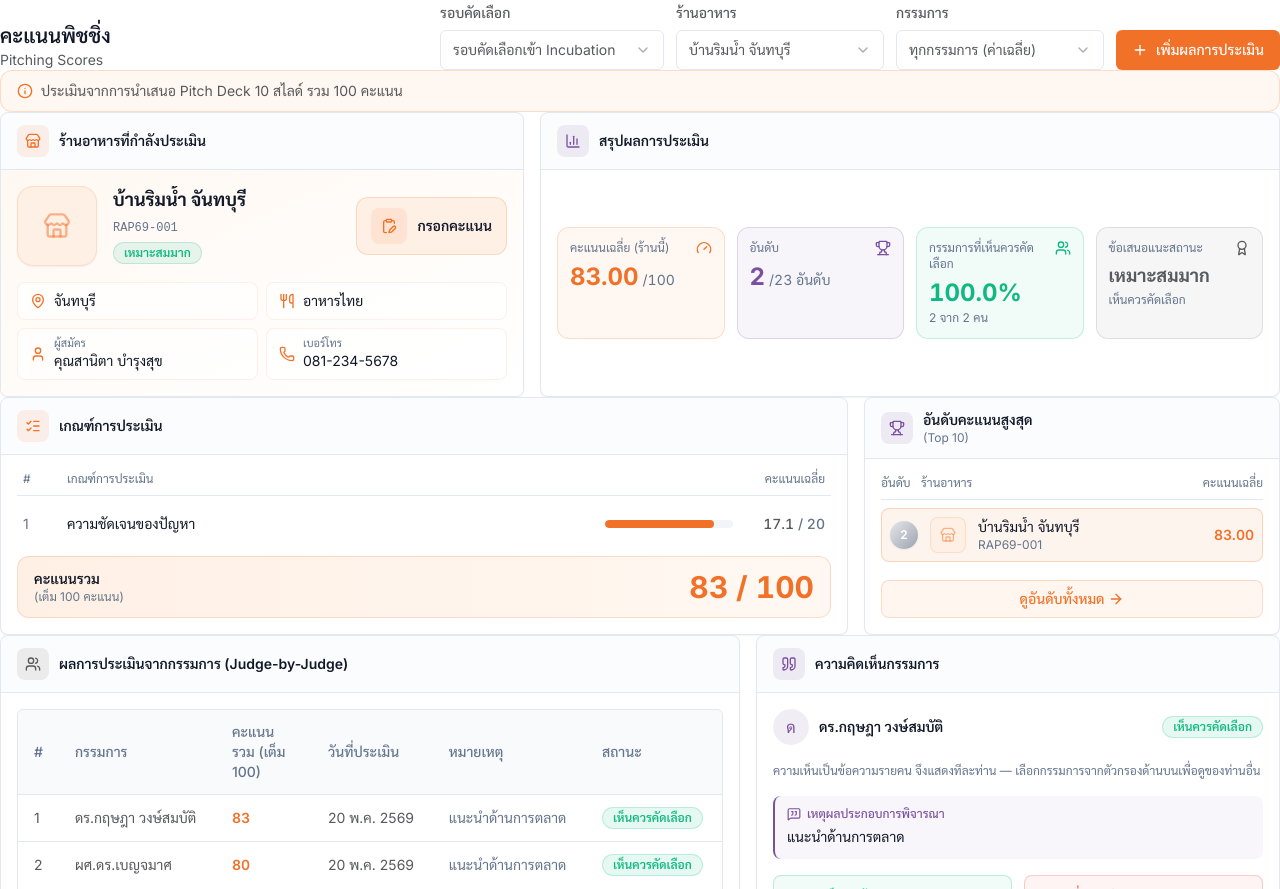
PitchingDashboard › selects the store clicked in the ranking dialog and closes it
This screenshot has width=1280, height=889.
Click the button "ดูอันดับทั้งหมด" at [1072, 599], box [881,580,1263,618]
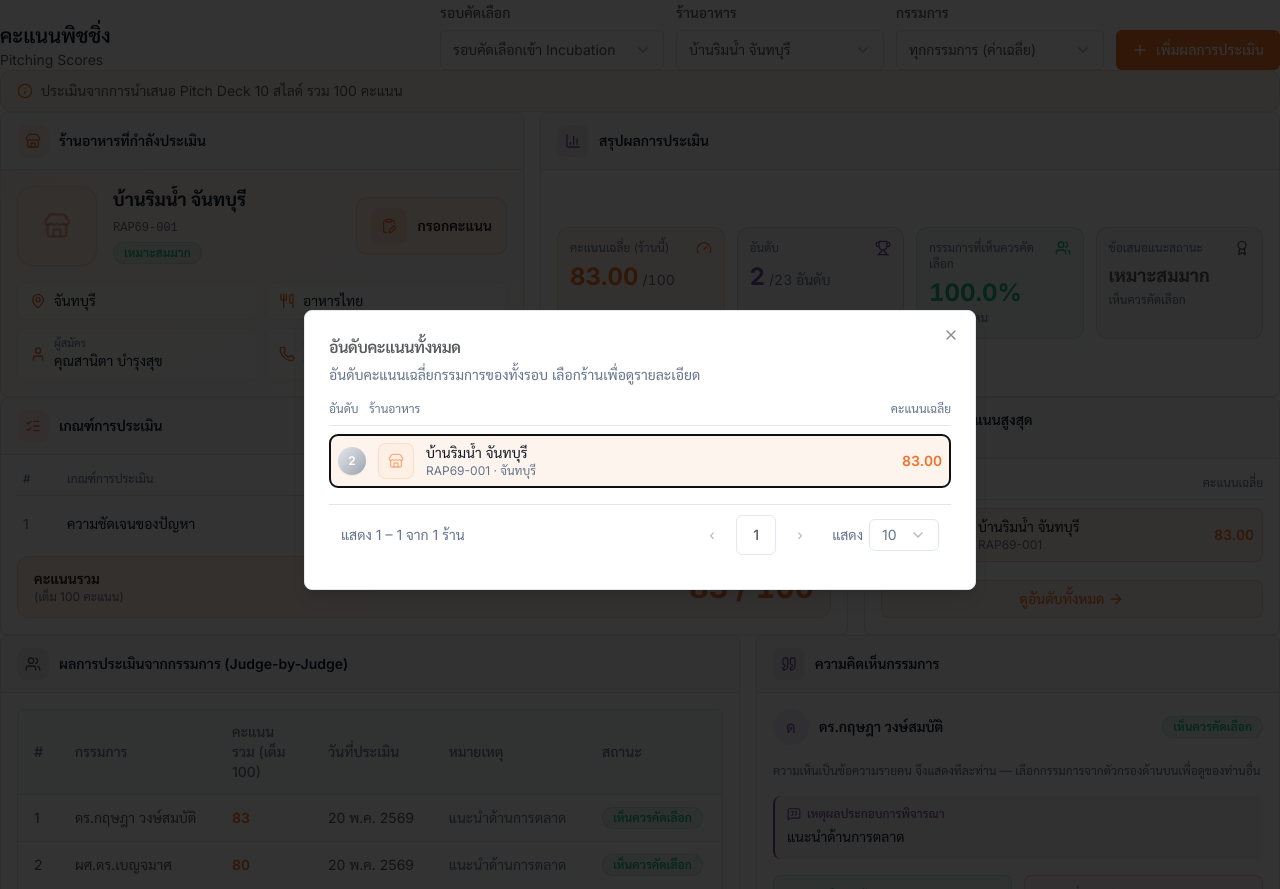
Click the button "2 บ้านริมน้ำ จันทบุรี RAP69-001 · จันทบุรี 83.00" at [396, 461], box [329,434,951,488]
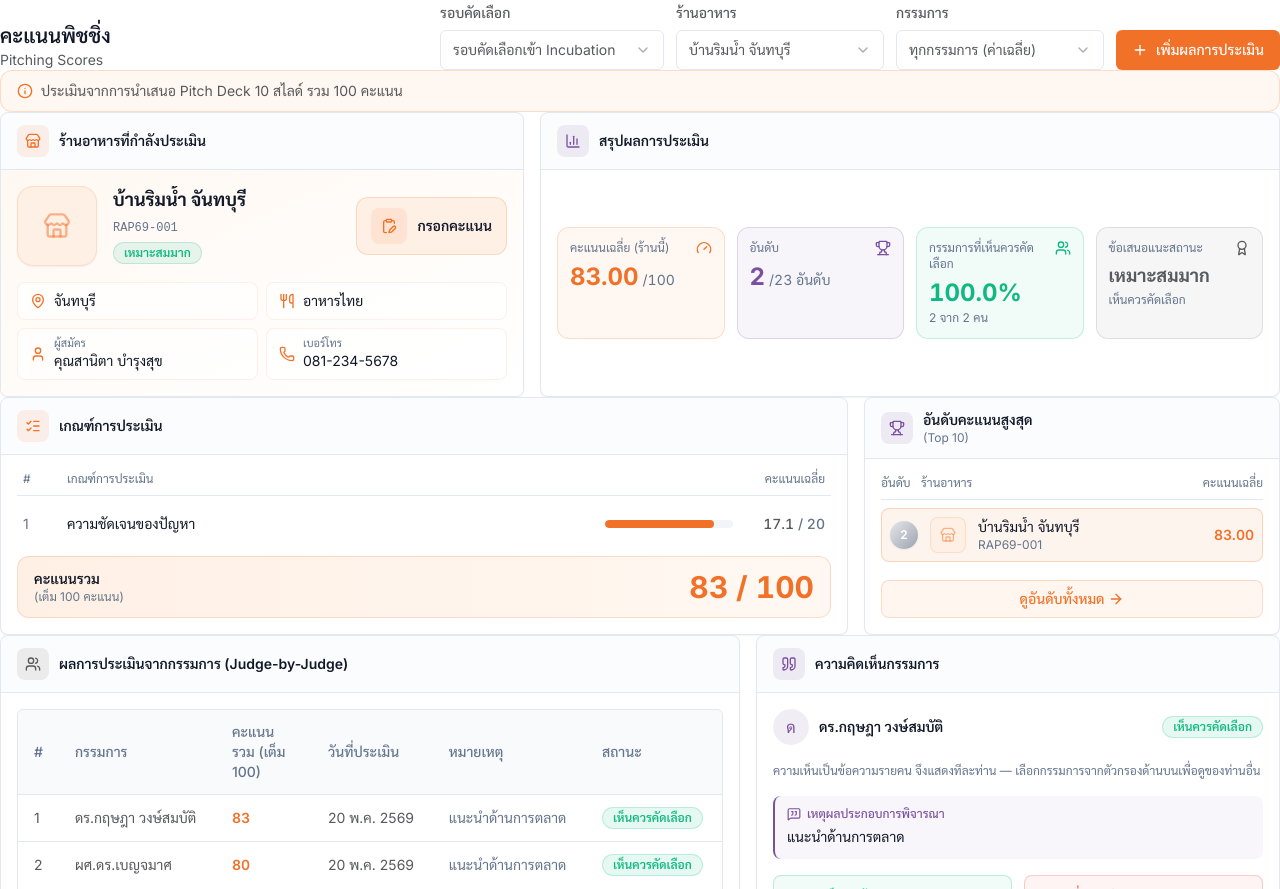
Check: the dialog is gone
